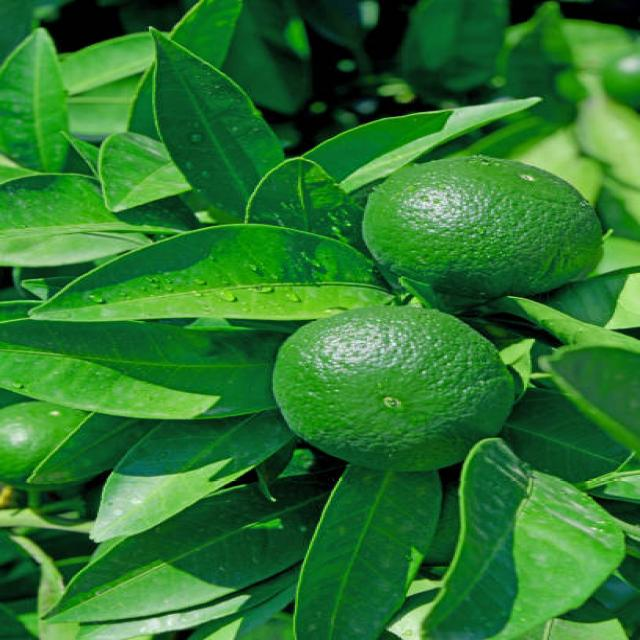Unripe: (277, 305, 517, 473), (357, 152, 600, 304)
